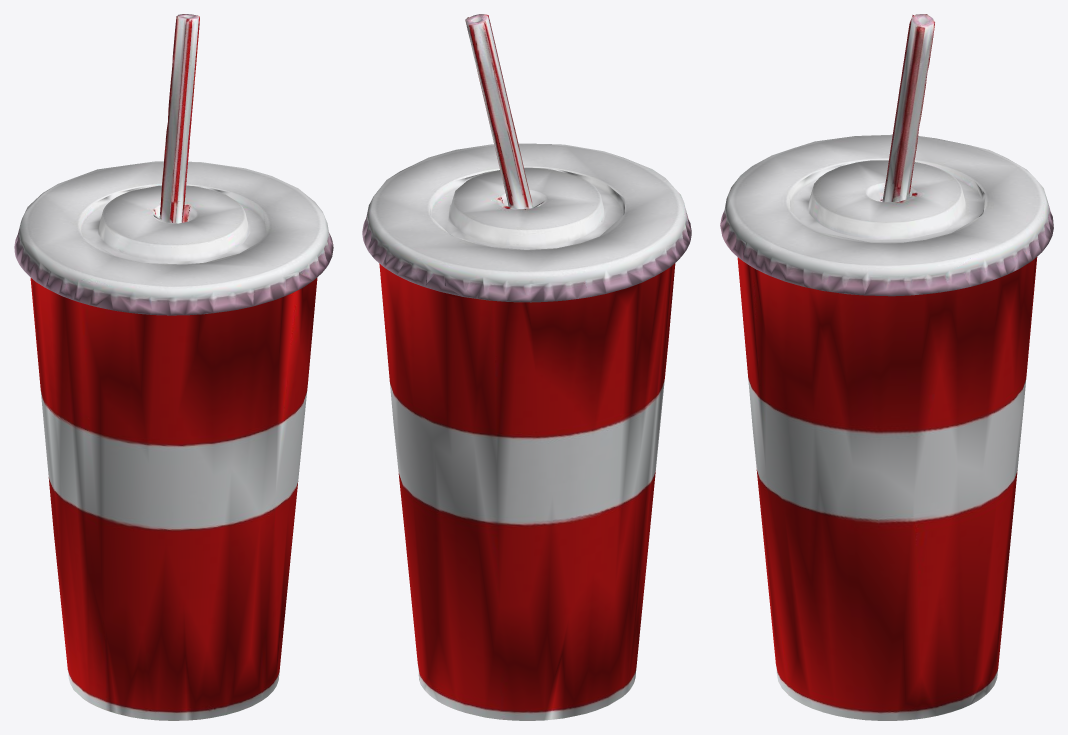
File: soda-cup.glb
3 renders of one model, left to right at view 1: azimuth 30°, elevation 25°; view 2: azimuth 150°, elevation 25°; view 3: azimuth 270°, elevation 25°, orthographic. The views are drawn at different scales.
Parts seen in each view (by area): view 1: Mesh_0.001; view 2: Mesh_0.001; view 3: Mesh_0.001.
Boxes of the visible parts, x1,y1,x2,y2 form: Mesh_0.001: (14,14,333,720); Mesh_0.001: (362,14,691,720); Mesh_0.001: (720,14,1053,720).
Size of the model in its own units: 0.1306 by 0.29 by 0.1304.
1 material, 1 textured.
